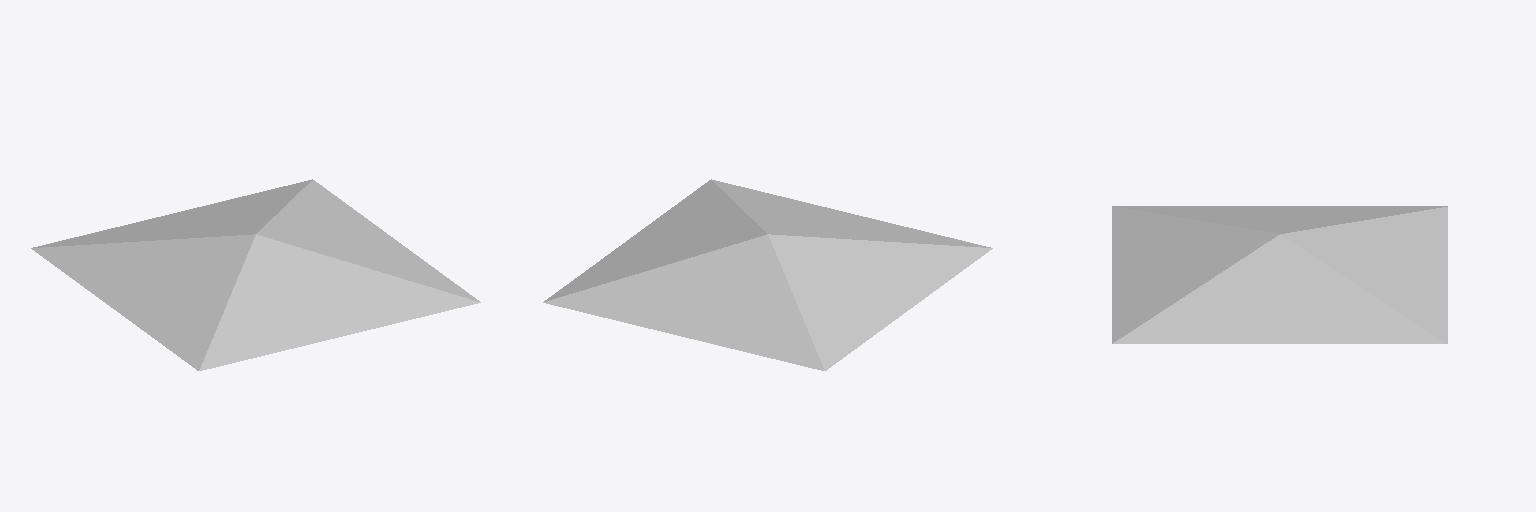
File: roof.obj
3 renders of one model, left to right at view 1: azimuth 30°, elevation 25°; view 2: azimuth 150°, elevation 25°; view 3: azimuth 270°, elevation 25°, orthographic.
Visible parts, largest first — view 1: Pyramid001; view 2: Pyramid001; view 3: Pyramid001.
Boxes of the visible parts, box(x1,y1,x2,y2) form: Pyramid001: box(31, 179, 480, 370); Pyramid001: box(543, 179, 992, 370); Pyramid001: box(1112, 206, 1447, 343).
Bounding box in the file's own units: 119 × 17.49 × 123.